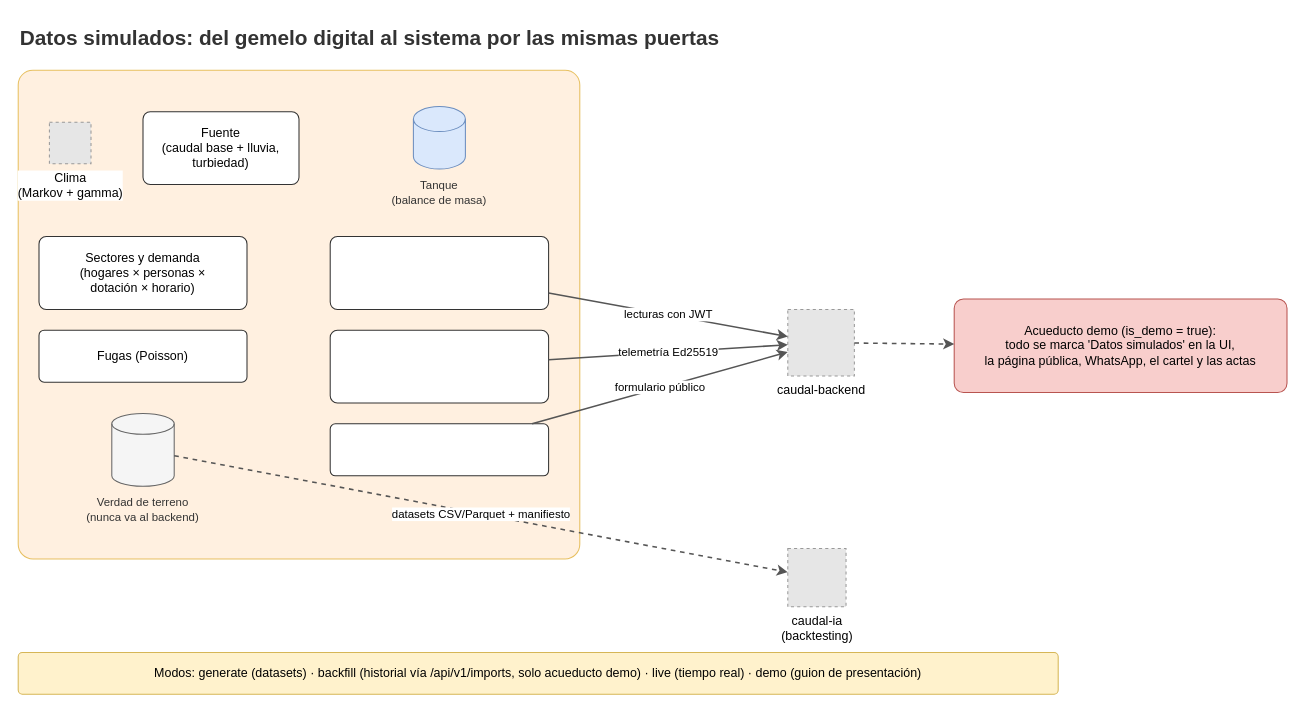
Some shapes in this 1305 by 712 pixel diagram are drawn without their labels. Grey dashed boxes stand in for pictures. Here are the shapes that lost their labels. From the top down, the box of each, then its label:
(329, 236, 549, 309): Fontanero simulado (horarios, errores, retrasos sin señal)
(17, 69, 580, 559): caudal-simulador (gemelo digital, YAML + semilla)
(329, 329, 549, 403): Sensores simulados (ruido, deriva, fallas) + válvulas
(329, 423, 549, 476): Comunidad (reportes de daño)
